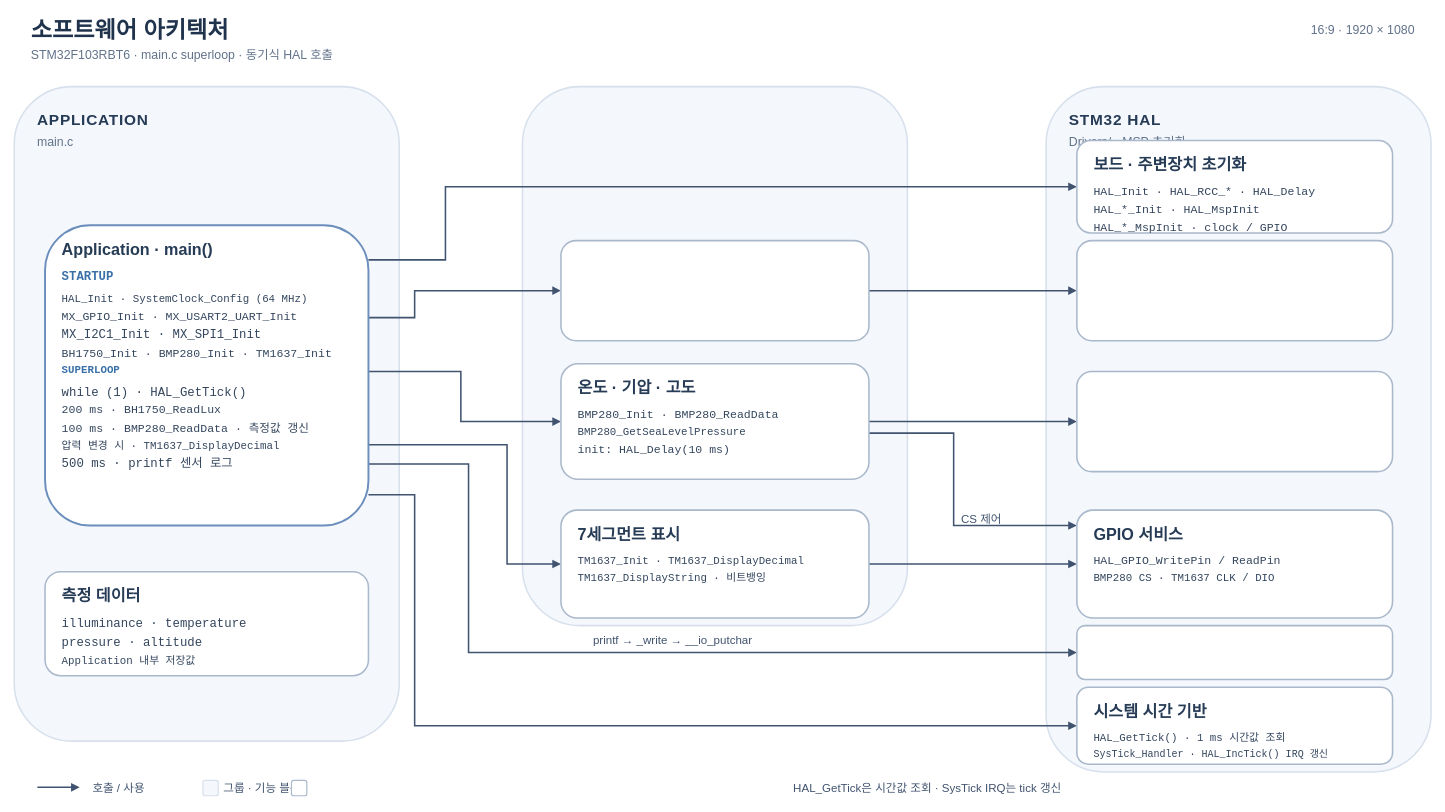
The diagram is 1445 pixels wide and 812 high, and some of its shapes have lost their labels. Here are the shapes that lost their labels. From the top down, the box of each, then its label:
(560, 239, 869, 341): 조도 측정 BH1750_Init · BH1750_ReadLux 초기화 대기 · HAL_Delay(10 ms)
(1076, 239, 1393, 341): I2C 서비스 HAL_I2C_IsDeviceReady HAL_I2C_Master_Transmit / Receive I2C1 · 100 kHz
(521, 85, 908, 626): USER DRIVERS 센서 · 표시 모듈
(1076, 370, 1393, 472): SPI 서비스 HAL_SPI_Transmit / Receive SPI1 · Mode 3 · 8 MHz
(1076, 624, 1393, 680): UART 출력 HAL_UART_Transmit · USART2 115200
